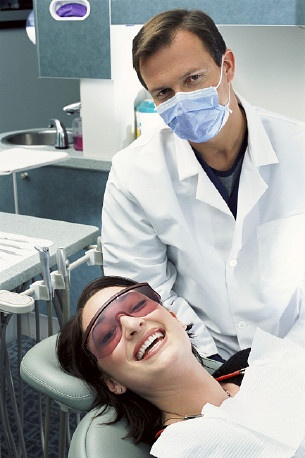Mask: (146, 65, 225, 143)
